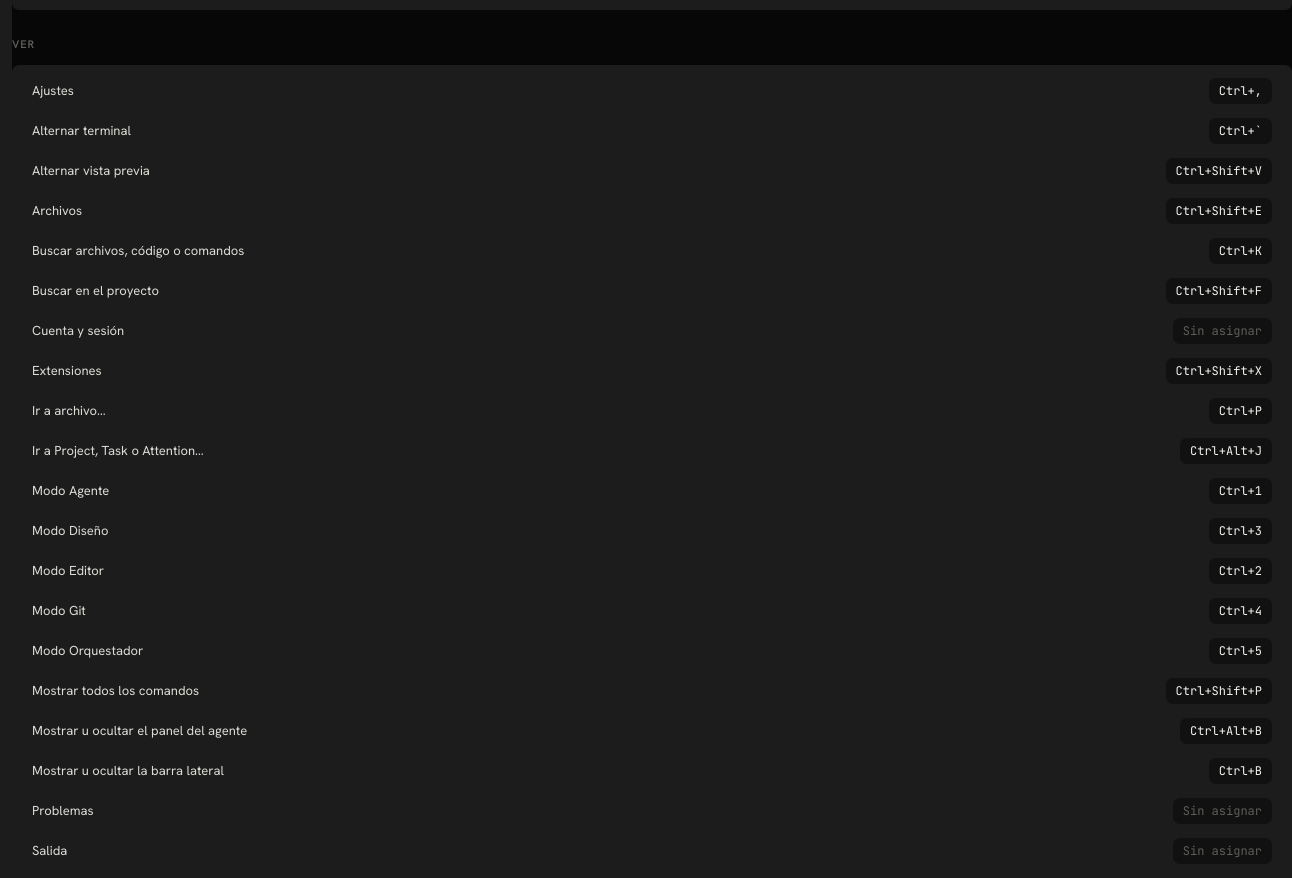
Test case: Ajustes · Atajos de teclado · colisiones › avisa y no cambia nada al intentar quitarle Ctrl+P a Quick Open
(page scrolled)
Step 1. Click the button "Ctrl+Alt+J" → [1226, 450], box [1180,438,1272,464]
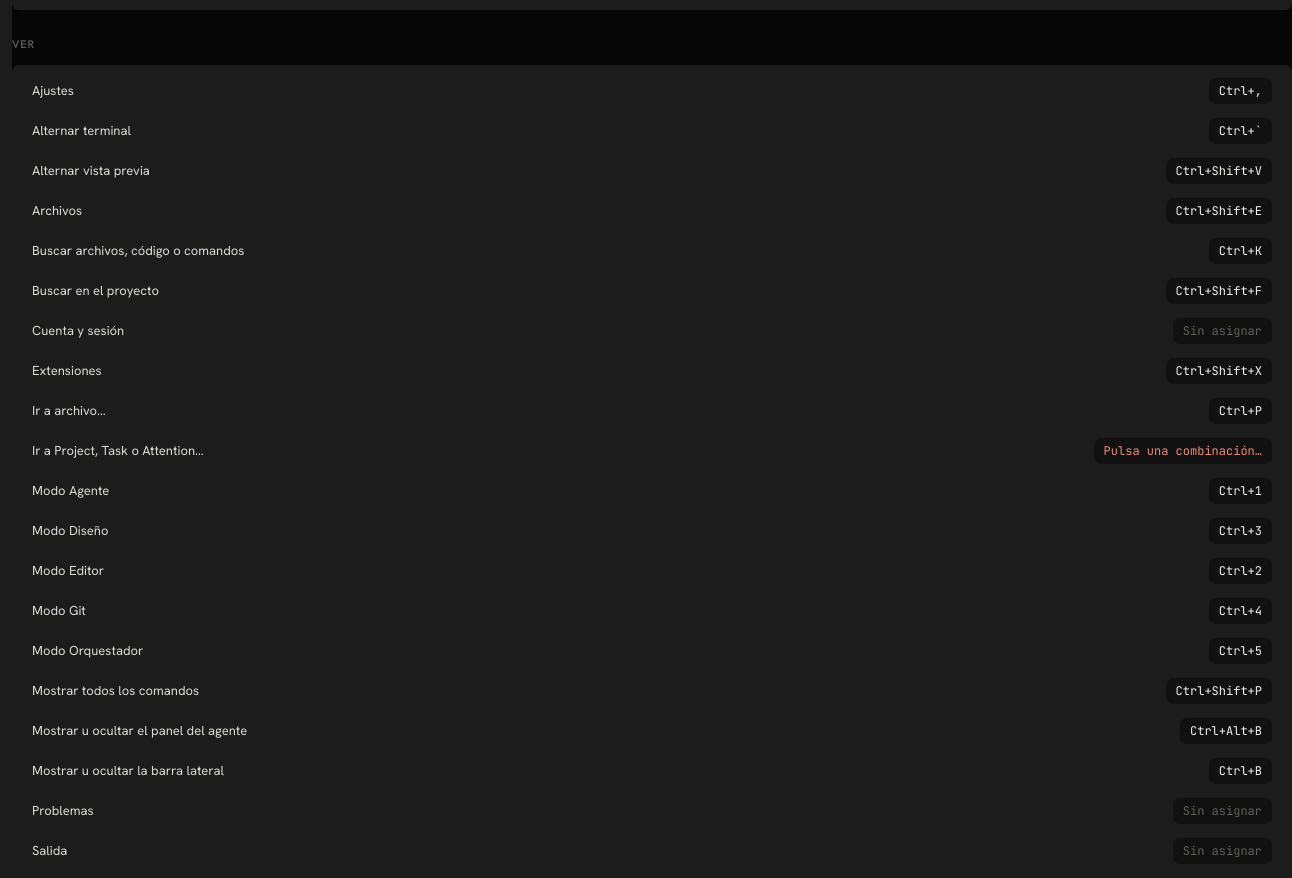
Step 2. Press p
(page scrolled)
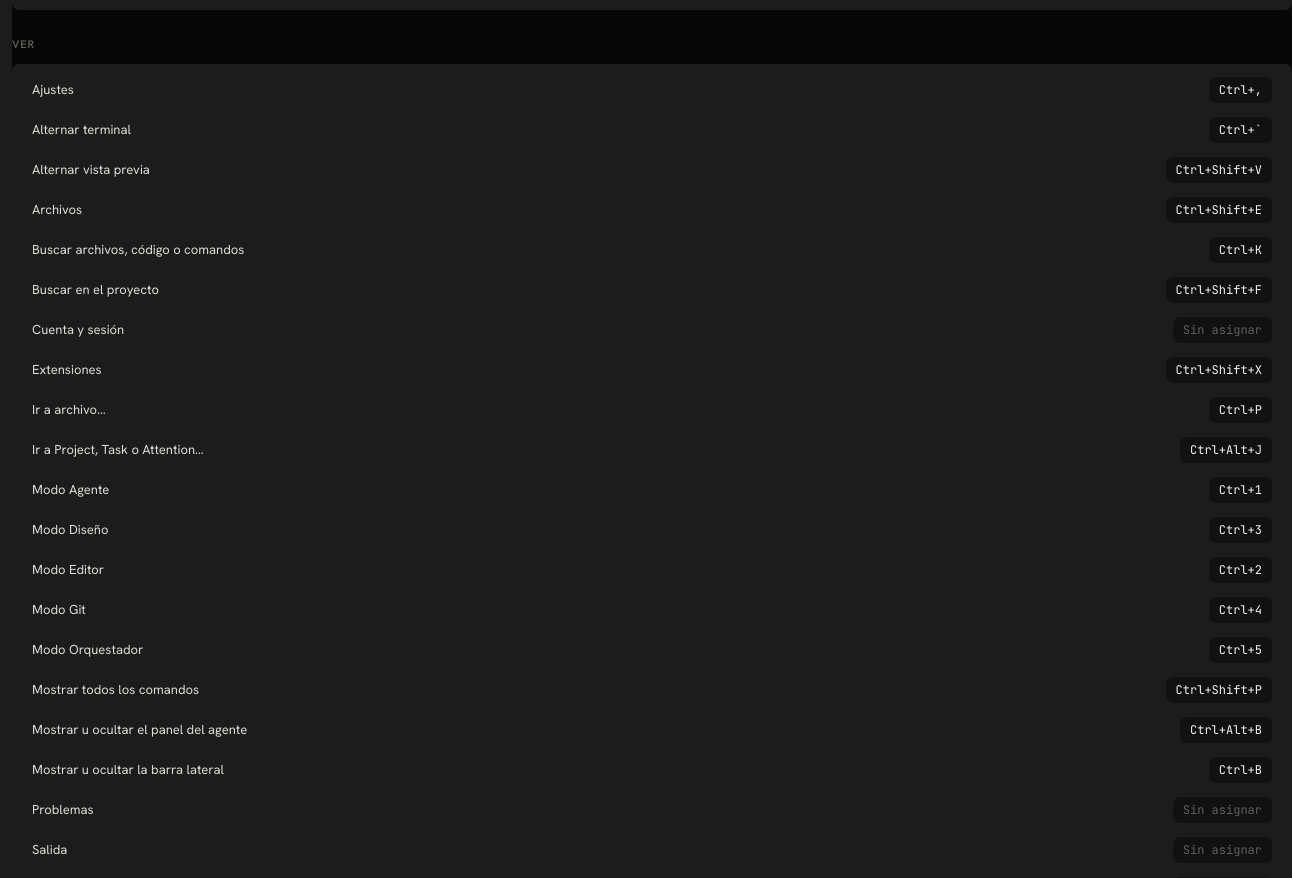
Expected: the button "Ctrl+Alt+J" is shown, [1180,437,1272,463]
